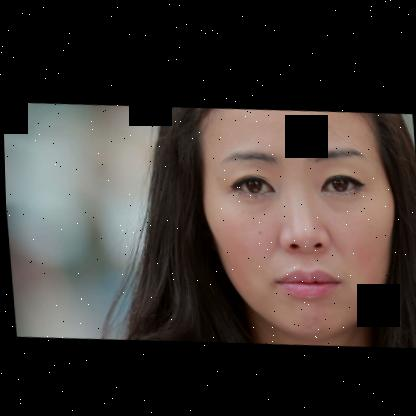Female: (194, 93, 404, 344)
